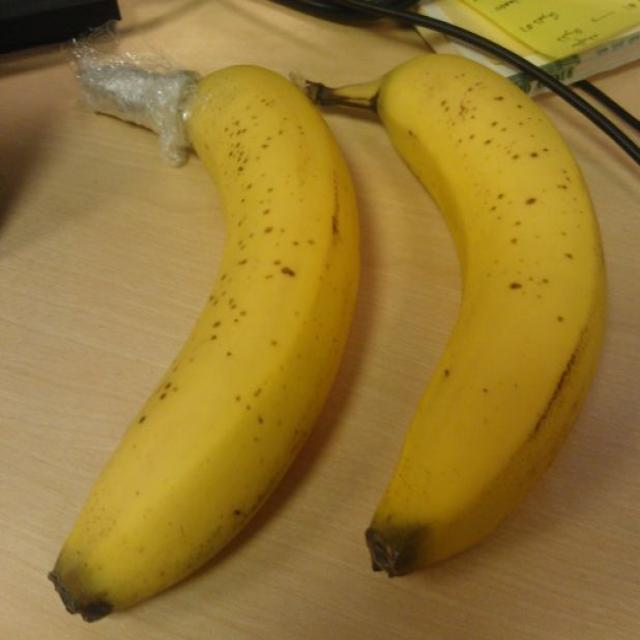Banana: (43, 62, 362, 612), (371, 54, 613, 588)
